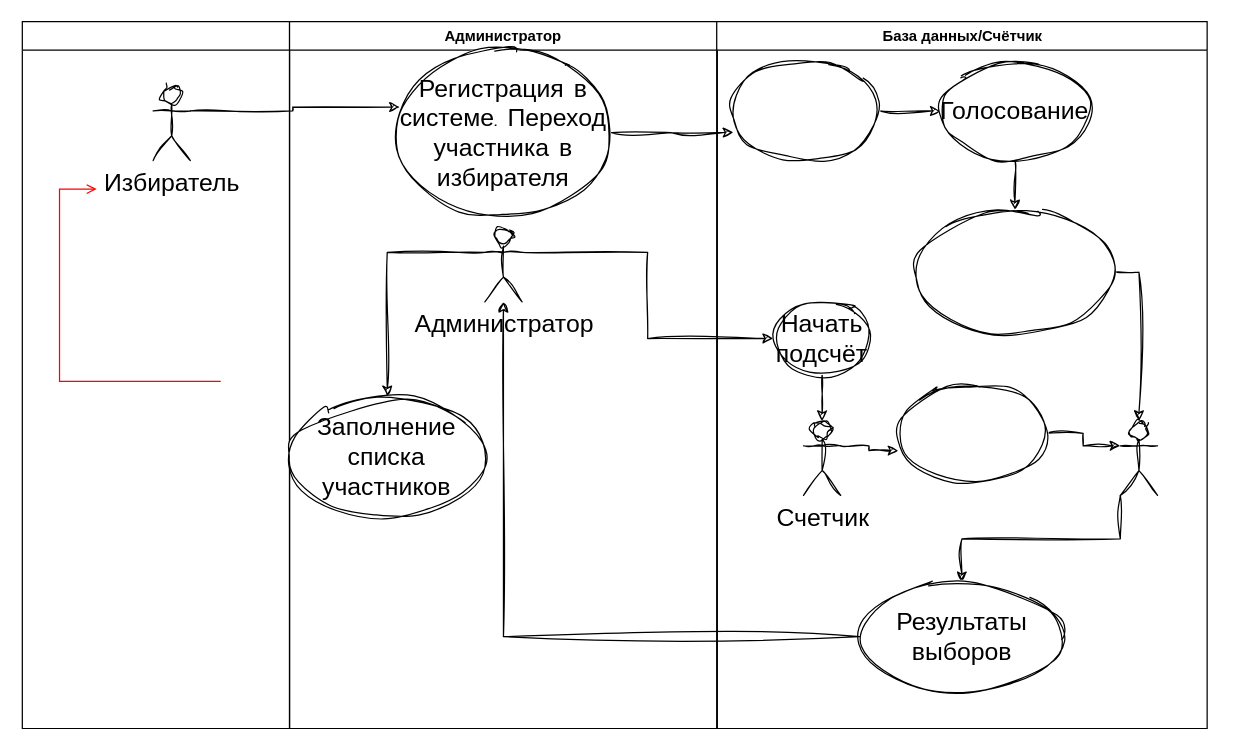
Image size: 1235x750. Some labels were removed from this diagram. Here are the shapes that lost their labels. From the top down, the box of each, then its label:
(729, 60, 879, 161): Вход в систему
(914, 209, 1114, 334): Проверка на наличие дубликатов
(21, 20, 290, 728): Участник/Избиратель
(896, 383, 1046, 483): Подсчет голосов
(1119, 420, 1158, 495): База данных
